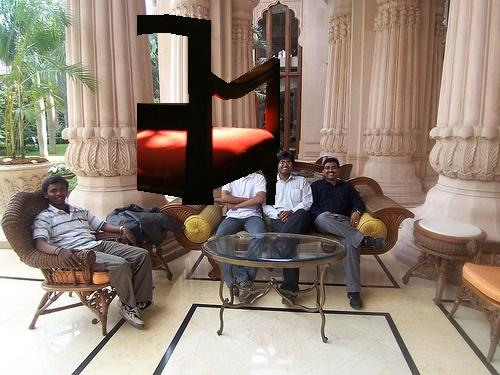tampered: (138, 15, 280, 205)
